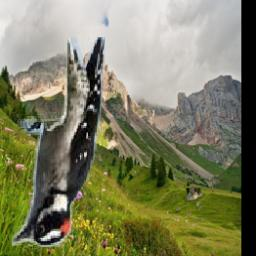Woodpecker: (12, 37, 106, 247)
